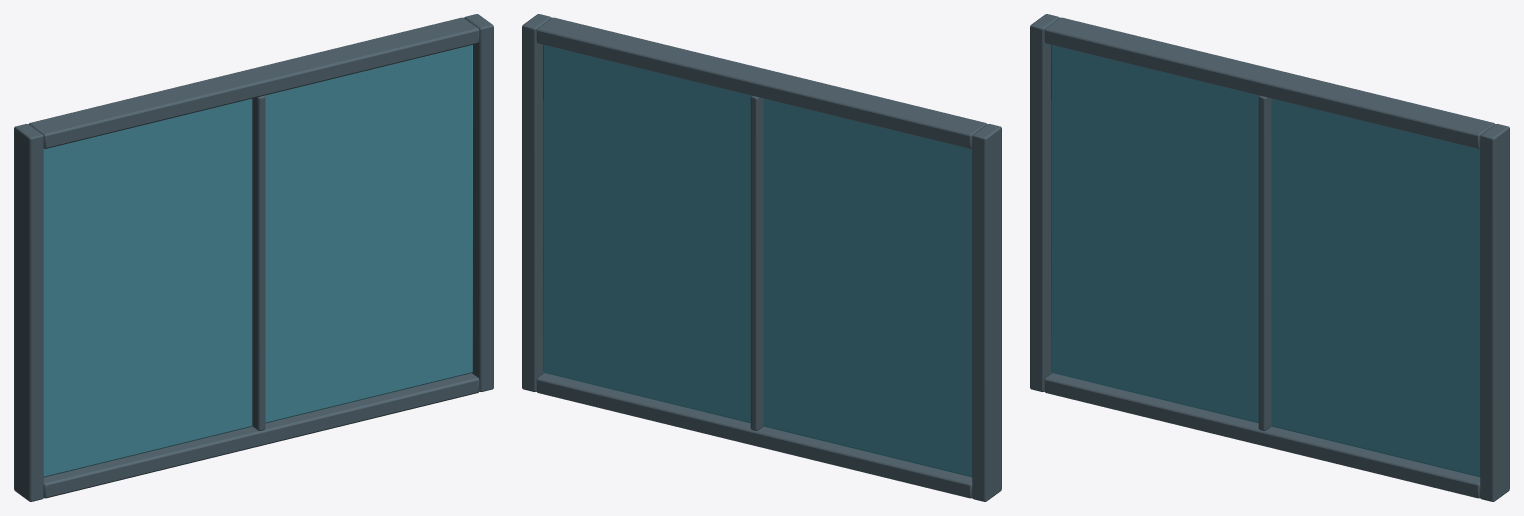
File: MOD_Facade_Glass_A.glb
The picture shows the model from 3 angles, left to right: view 1: azimuth 30°, elevation 25°; view 2: azimuth 150°, elevation 25°; view 3: azimuth 330°, elevation 25°; orthographic projection.
Visible parts, largest first — view 1: MOD_Facade_Glass_A; view 2: MOD_Facade_Glass_A; view 3: MOD_Facade_Glass_A.
Boxes of the visible parts, left/top/right/bottom form: MOD_Facade_Glass_A: left=14, top=14, right=493, bottom=501; MOD_Facade_Glass_A: left=522, top=14, right=1001, bottom=501; MOD_Facade_Glass_A: left=1030, top=14, right=1509, bottom=501.
Bounding box in the file's own units: 4 × 3 × 0.25.
